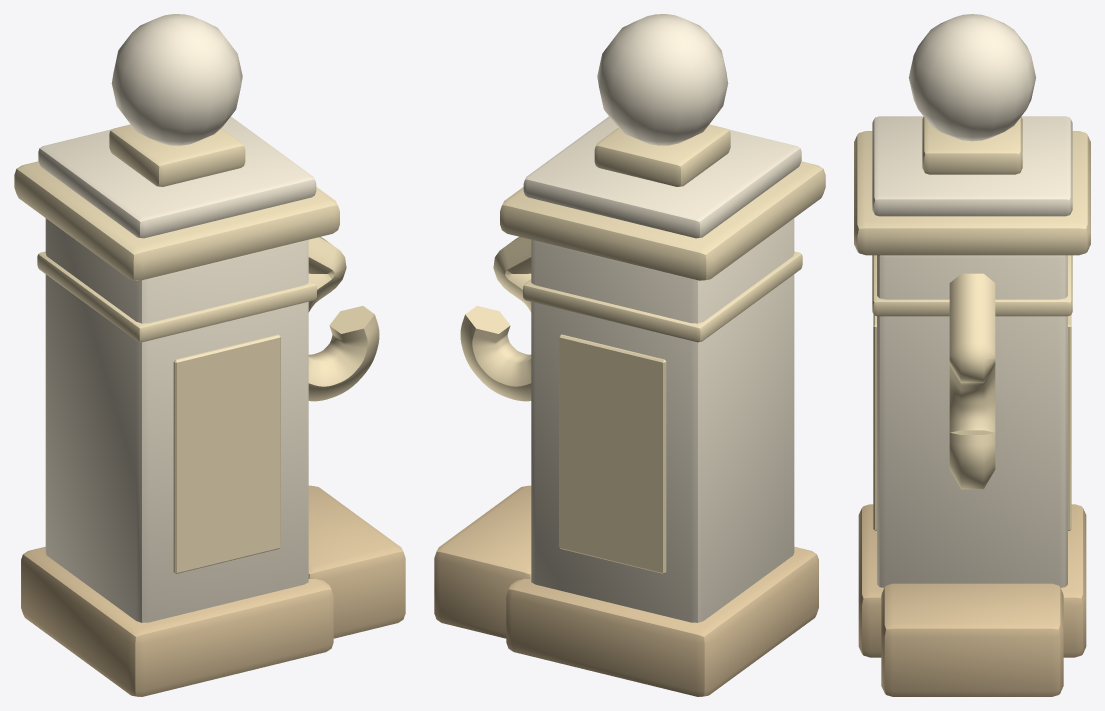
The model's file is balaustrada_terminal.glb.
3 views of the same model, side by side, from view 1: azimuth 30°, elevation 25°; view 2: azimuth 150°, elevation 25°; view 3: azimuth 270°, elevation 25° (orthographic). The views are drawn at different scales.
Visible parts, largest first — view 1: balaustrada_terminal; view 2: balaustrada_terminal; view 3: balaustrada_terminal.
Part boxes in pixels (box(x1,y1,x2,y2)): balaustrada_terminal: box(14, 14, 405, 696); balaustrada_terminal: box(434, 14, 825, 696); balaustrada_terminal: box(854, 14, 1090, 696).
Size of the model in its own units: 0.7406 by 1.44 by 0.52.
Materials: 1 (1 with a texture image).
